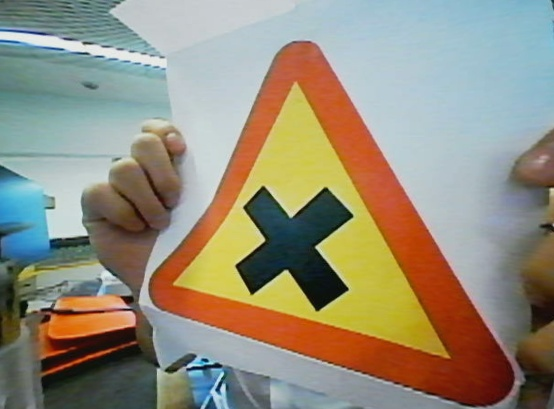junction: (152, 29, 512, 409)
